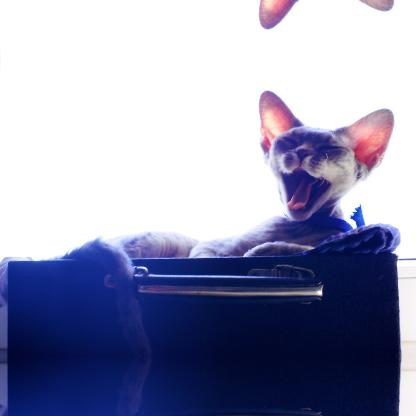Cat: (50, 87, 390, 354), (50, 356, 391, 415)
